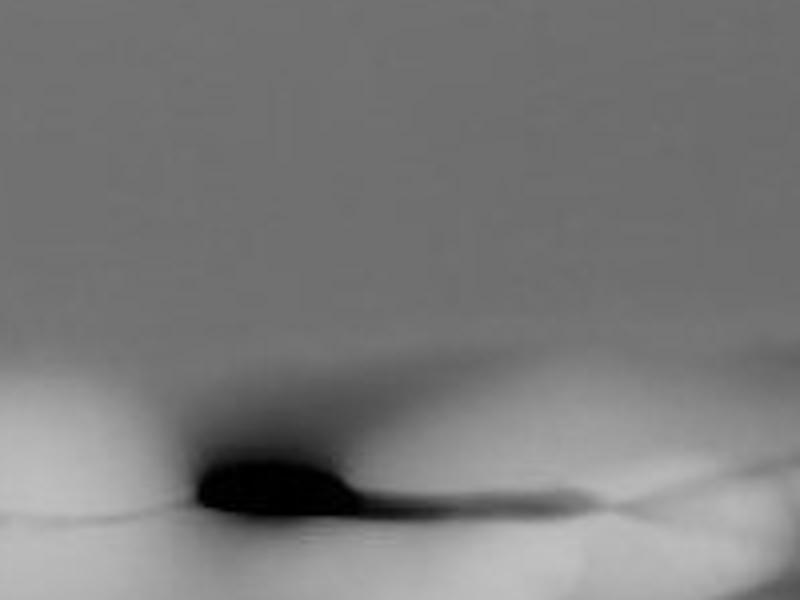defect: (198, 460, 385, 528)
